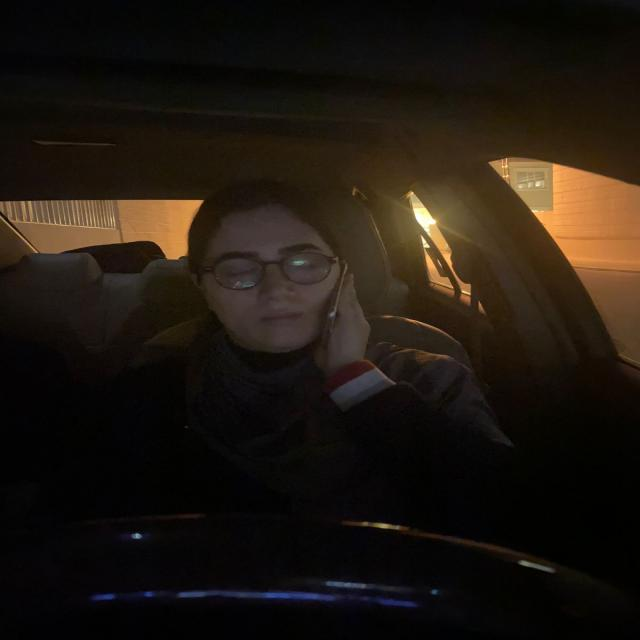drowsy: (176, 174, 372, 366)
